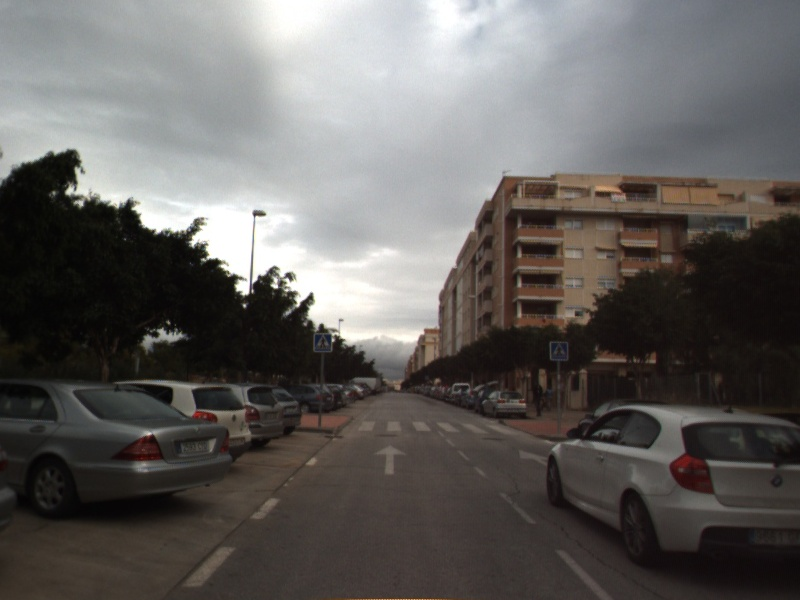STRAIGHT: (372, 442, 409, 476), (517, 448, 549, 467)
